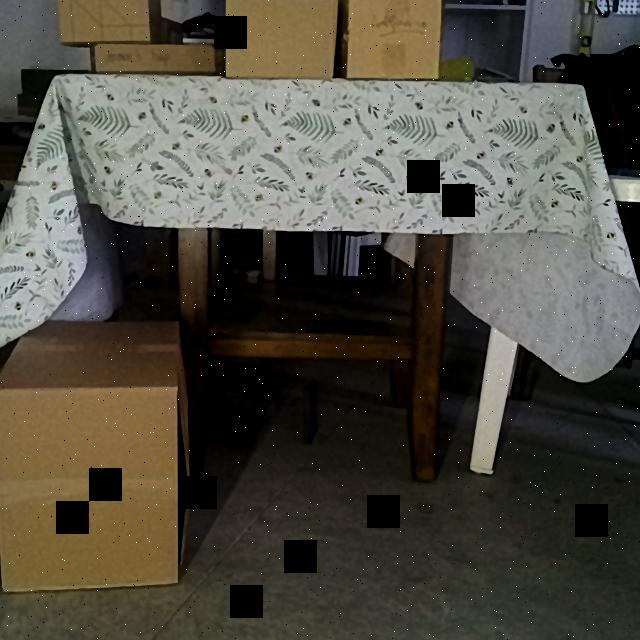box: (0, 384, 178, 589), (224, 0, 335, 78), (347, 0, 440, 80), (58, 0, 150, 42), (93, 43, 217, 73)
